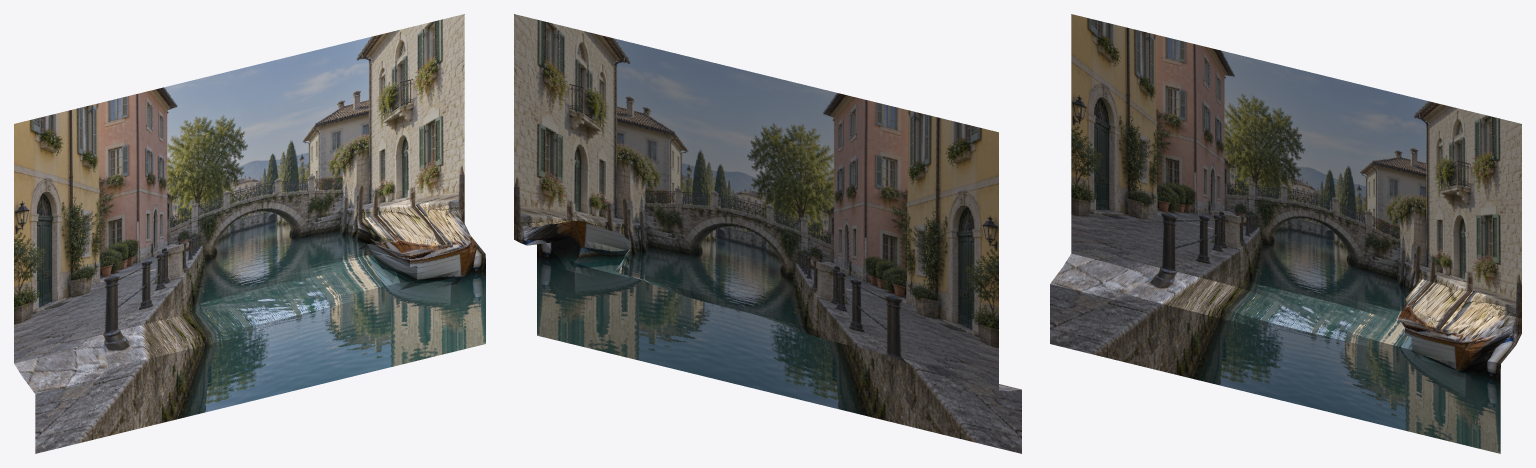
The model's file is source_relief.obj.
3 renders of one model, left to right at view 1: azimuth 30°, elevation 25°; view 2: azimuth 150°, elevation 25°; view 3: azimuth 330°, elevation 25°, orthographic. The views are drawn at different scales.
Parts seen in each view (by area): view 1: photo_relief; view 2: photo_relief; view 3: photo_relief.
Part boxes in pixels (<box>): photo_relief: <box>14,14,485,453</box>; photo_relief: <box>514,14,1021,453</box>; photo_relief: <box>1050,14,1521,453</box>.
Bounding box in the file's own units: 1.5 × 1 × 0.18.
1 material, 1 textured.
